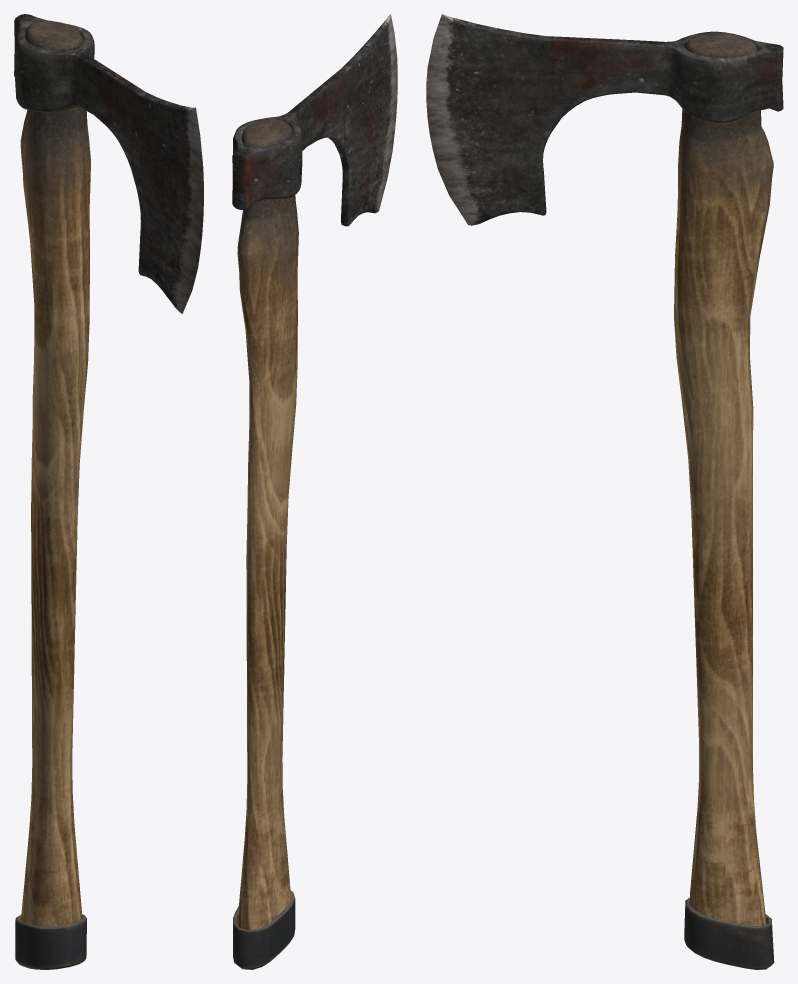
Rendered from axe.glb.
3 views of the same model, side by side, from view 1: azimuth 30°, elevation 25°; view 2: azimuth 150°, elevation 25°; view 3: azimuth 270°, elevation 25° (orthographic). The views are drawn at different scales.
Parts seen in each view (by area): view 1: wooden_axe; view 2: wooden_axe; view 3: wooden_axe.
Part boxes in pixels (x1,y1,x2,y2): wooden_axe: (14, 14, 203, 969); wooden_axe: (232, 14, 397, 969); wooden_axe: (426, 14, 783, 969).
Bounding box in the file's own units: 0.0472 × 0.6303 × 0.2143.
Materials: 1 (1 with a texture image).
